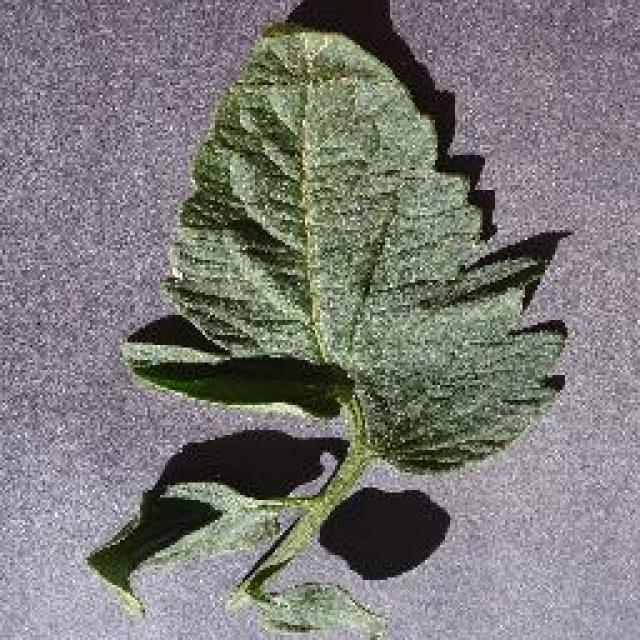Tomato healthy leaf: (135, 34, 555, 466)
